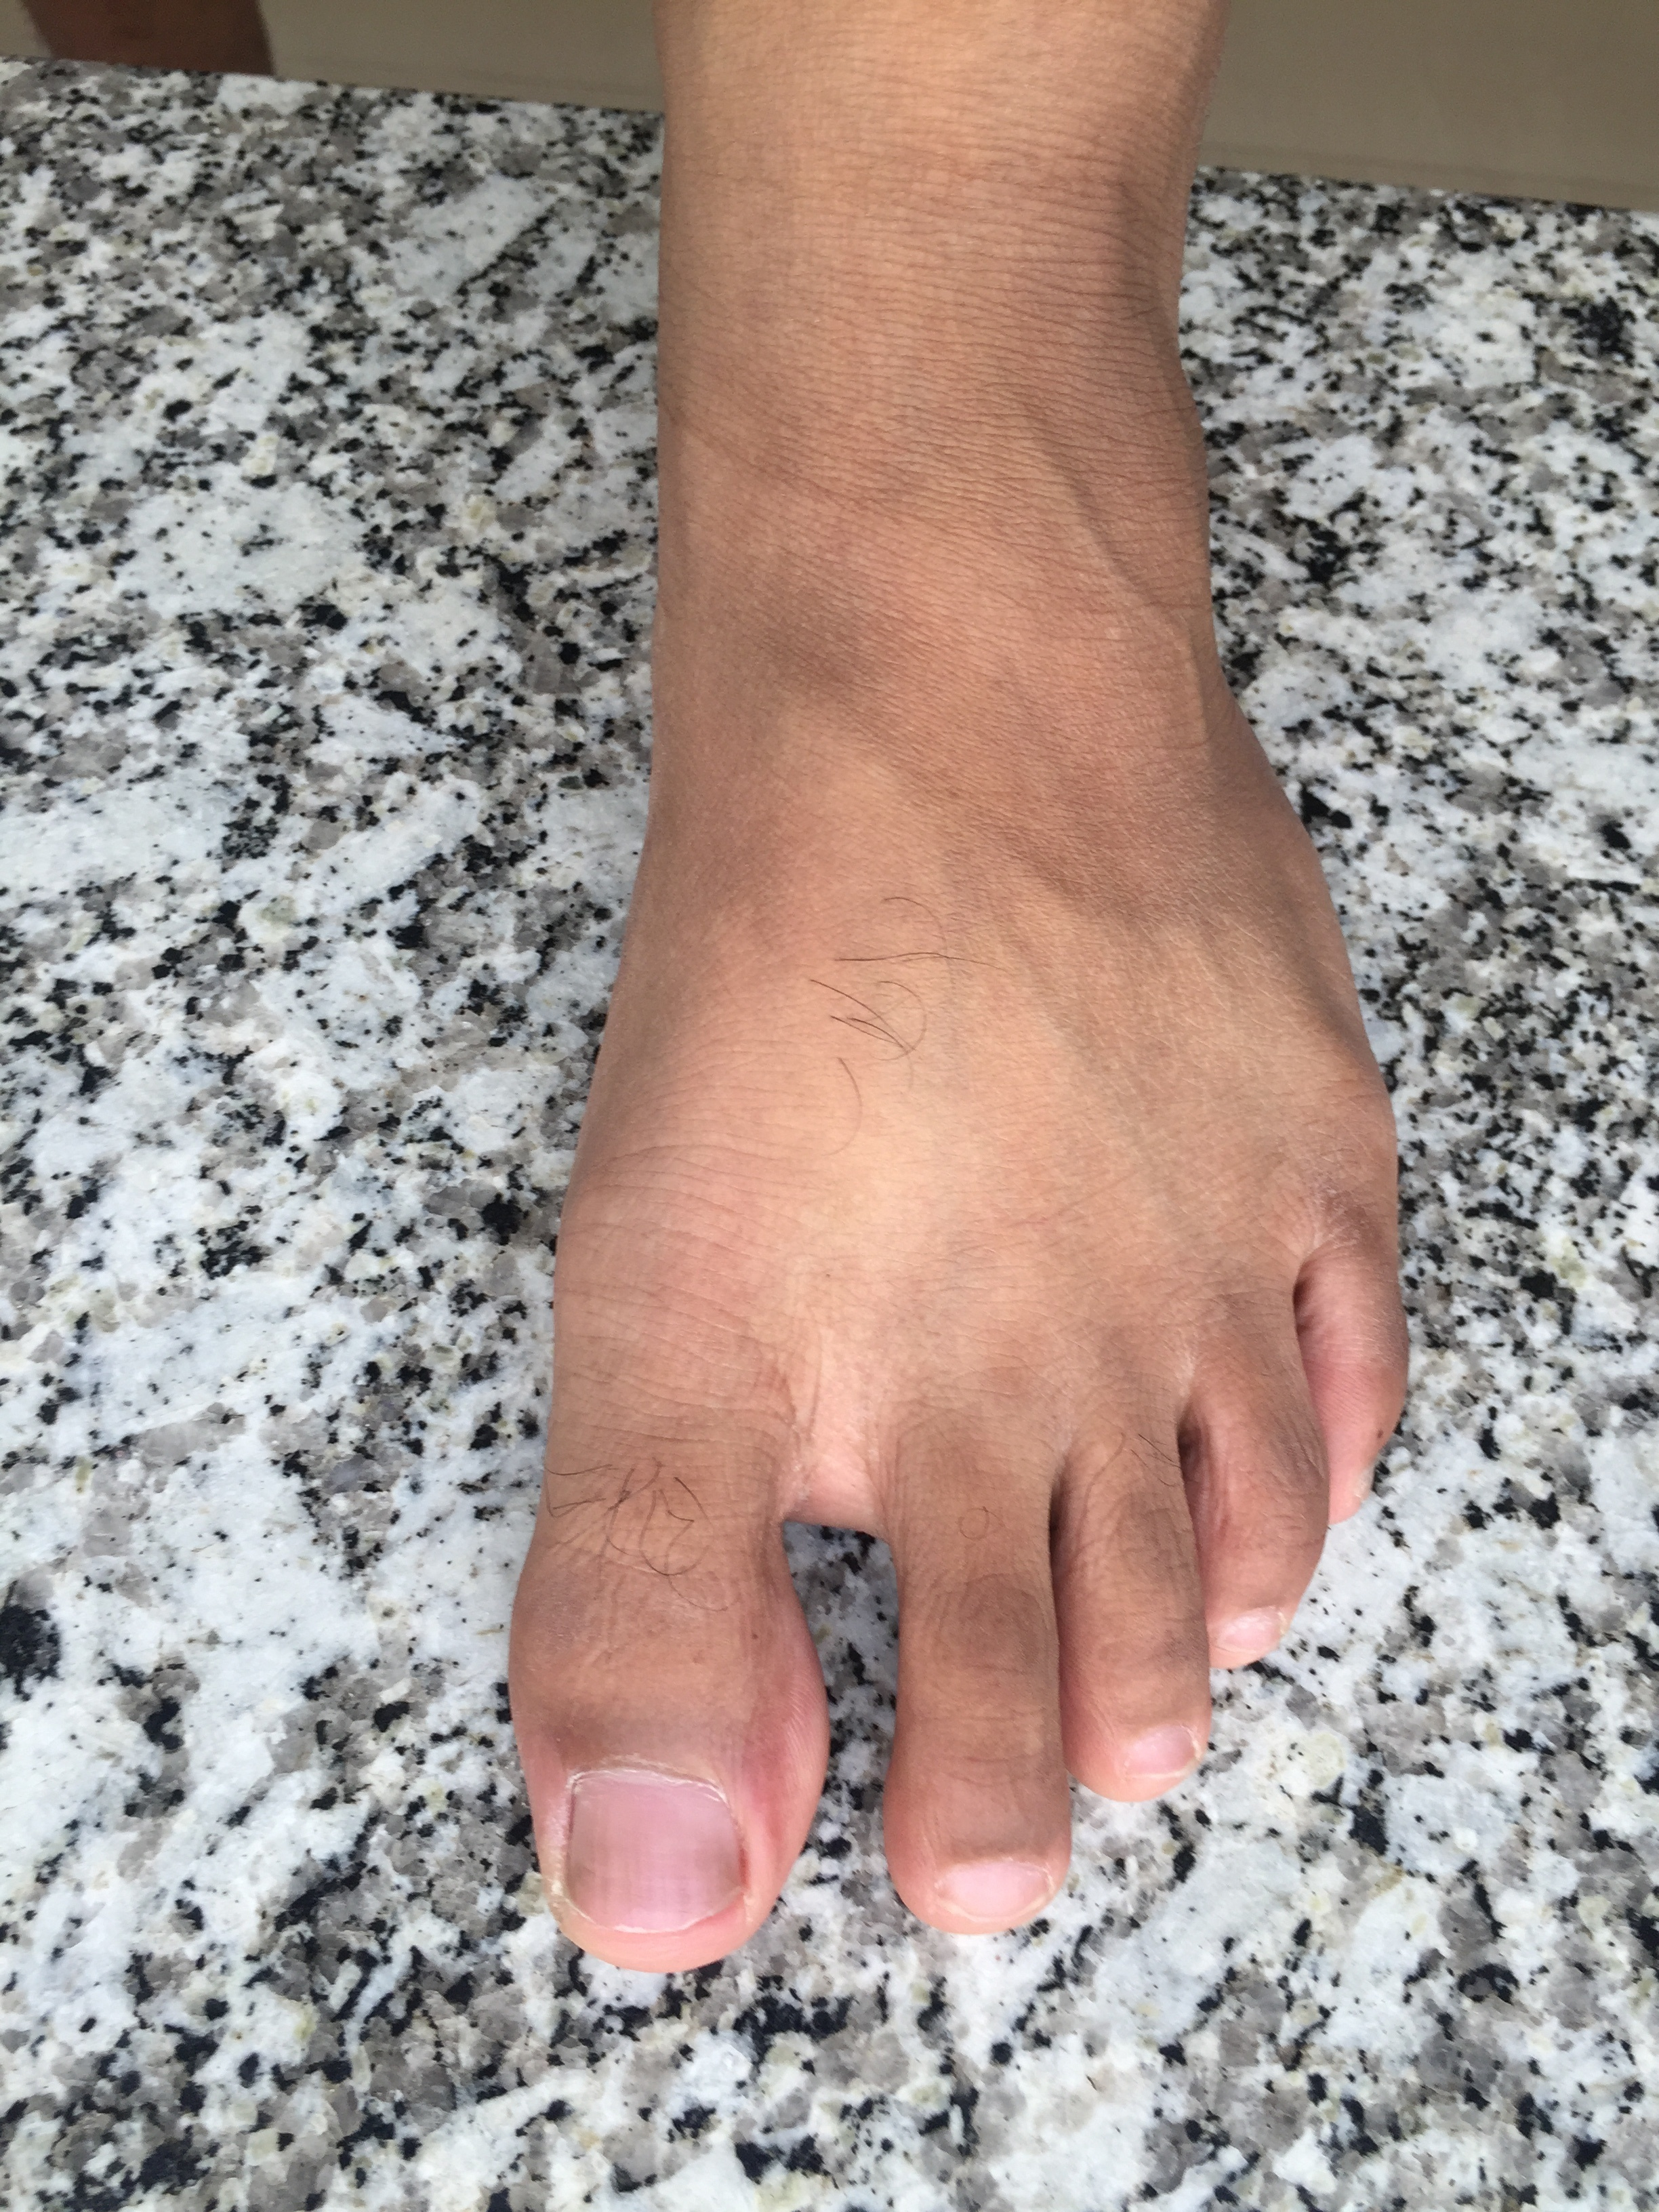feet: (350, 19, 1427, 1982)
